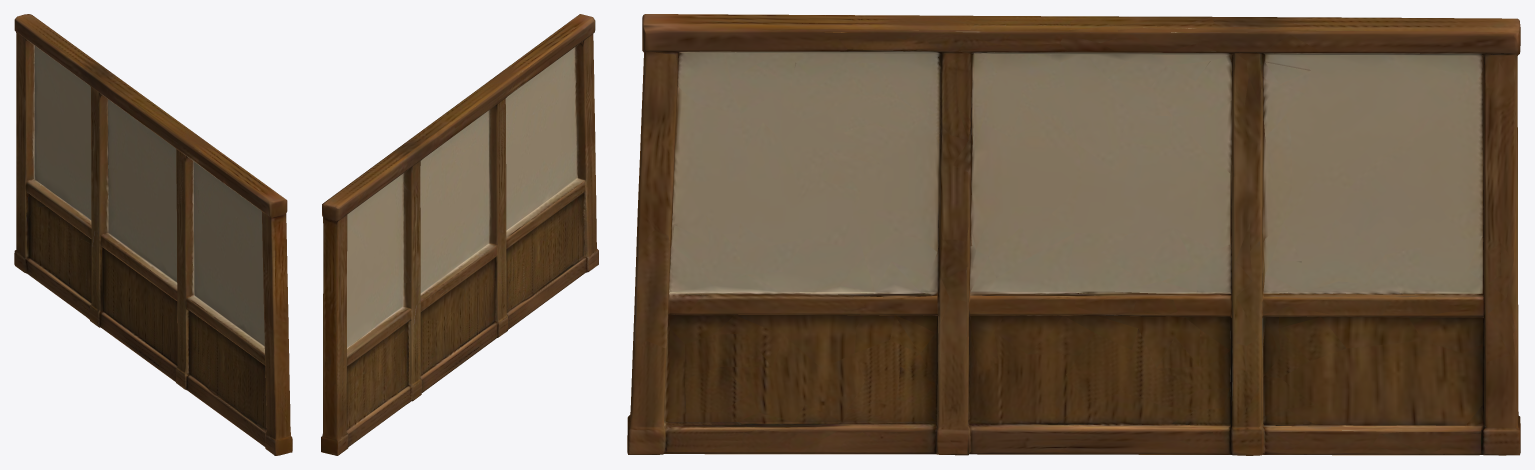
The model's file is wall.glb.
The picture shows the model from 3 angles, left to right: view 1: azimuth 30°, elevation 25°; view 2: azimuth 150°, elevation 25°; view 3: azimuth 270°, elevation 25°; orthographic projection. The views are drawn at different scales.
Parts seen in each view (by area): view 1: tripo_node_41dcede5-639e-4d93-8b1f-3981130ae82d; view 2: tripo_node_41dcede5-639e-4d93-8b1f-3981130ae82d; view 3: tripo_node_41dcede5-639e-4d93-8b1f-3981130ae82d.
Boxes of the visible parts, x1,y1,x2,y2 form: tripo_node_41dcede5-639e-4d93-8b1f-3981130ae82d: (14,14,292,455); tripo_node_41dcede5-639e-4d93-8b1f-3981130ae82d: (321,14,598,455); tripo_node_41dcede5-639e-4d93-8b1f-3981130ae82d: (627,14,1520,455).
Size of the model in its own units: 0.0413 by 0.5325 by 0.9999.
Materials: 1 (1 with a texture image).
